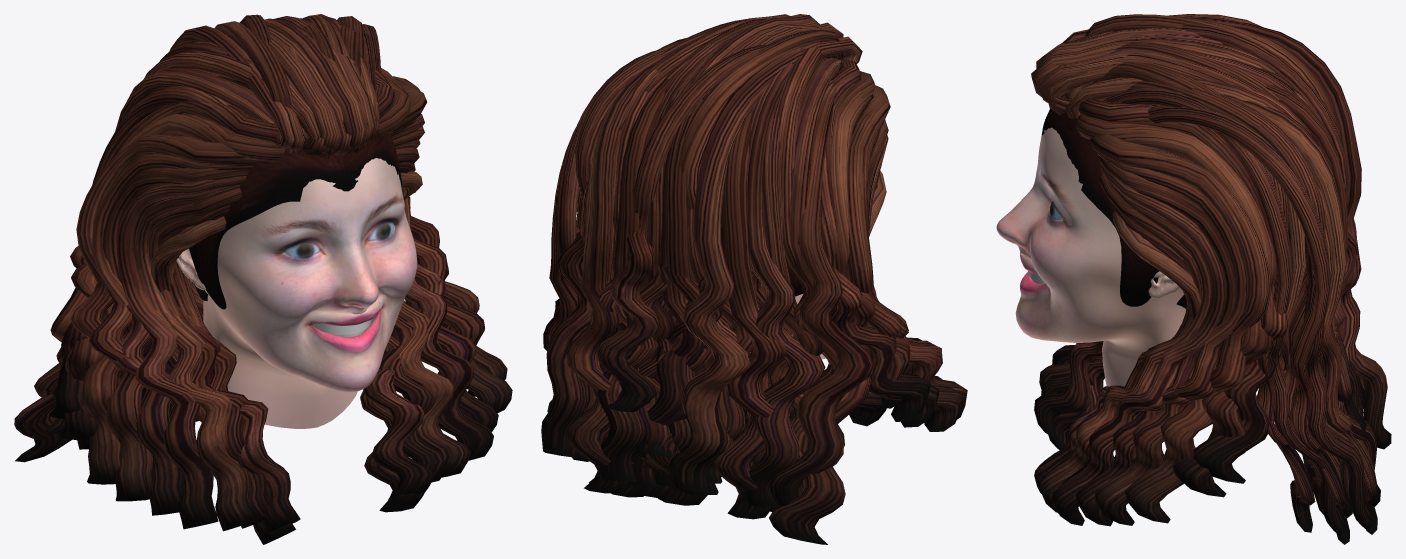
Rendered from laugh.obj.
3 views of the same model, side by side, from view 1: azimuth 30°, elevation 25°; view 2: azimuth 150°, elevation 25°; view 3: azimuth 270°, elevation 25° (orthographic). The views are drawn at different scales.
Parts seen in each view (by area): view 1: laugh; view 2: laugh; view 3: laugh.
Part boxes in pixels (x1=…): laugh: x1=14, y1=14, x2=512, y2=544; laugh: x1=541, y1=14, x2=967, y2=544; laugh: x1=996, y1=14, x2=1391, y2=544.
Bounding box in the file's own units: 365 × 387 × 298.
